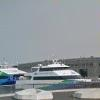Boat: (13, 59, 94, 90)
